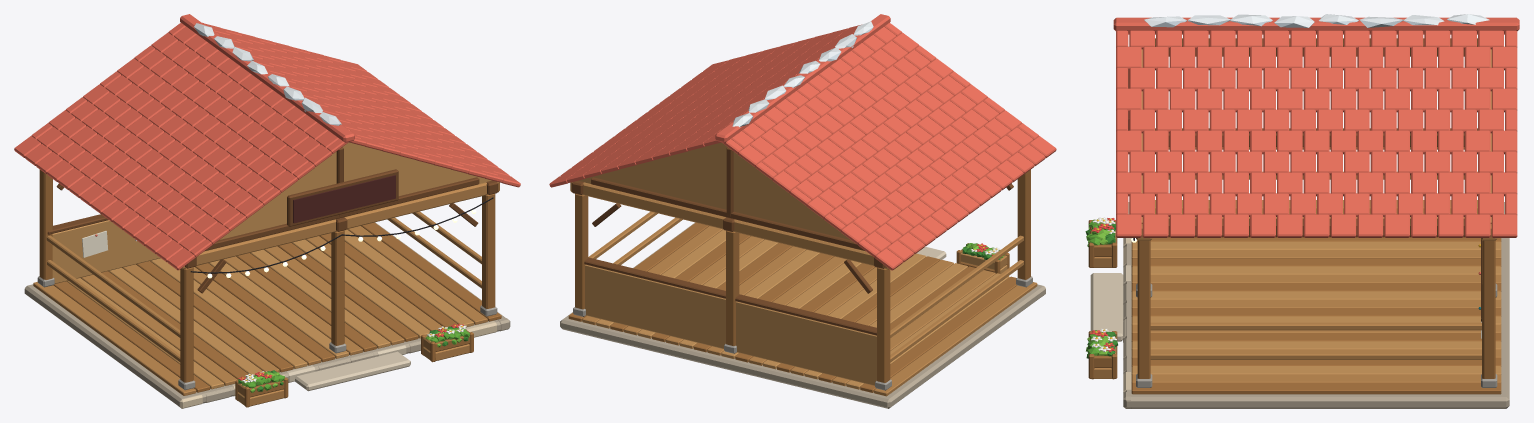
The model's file is sketch_pavilion.glb.
The picture shows the model from 3 angles, left to right: view 1: azimuth 30°, elevation 25°; view 2: azimuth 150°, elevation 25°; view 3: azimuth 270°, elevation 25°; orthographic projection. The views are drawn at different scales.
Parts seen in each view (by area): view 1: sketch_pavilion; view 2: sketch_pavilion; view 3: sketch_pavilion.
Part boxes in pixels (x1,y1,x2,y2): sketch_pavilion: [14, 14, 520, 408]; sketch_pavilion: [549, 14, 1056, 408]; sketch_pavilion: [1085, 14, 1519, 408].
Bounding box in the file's own units: 5.93 × 3.98 × 5.28.
